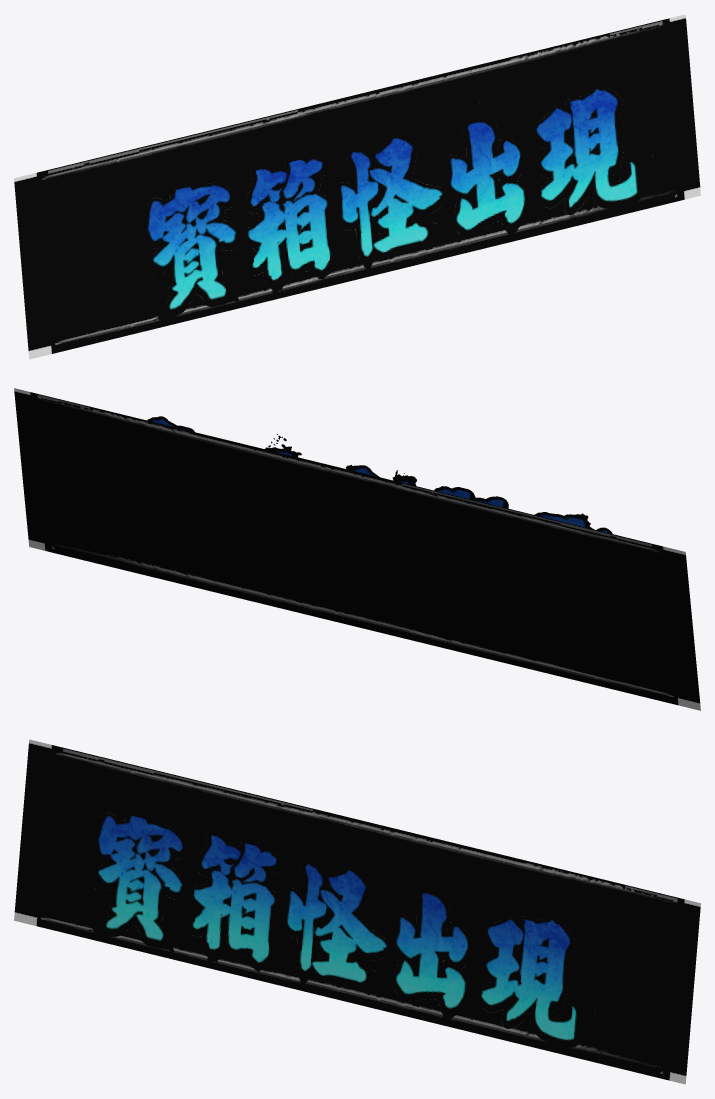
File: effect_box.FBX
The picture shows the model from 3 angles, top to bottom: view 1: azimuth 30°, elevation 25°; view 2: azimuth 150°, elevation 25°; view 3: azimuth 330°, elevation 25°; orthographic projection.
Visible parts, largest first — view 1: effect_box_kuang, effect_box_5, effect_box_1, effect_box_2, effect_box_5_ad, effect_box_3, effect_box_4, effect_box_1_ad, effect_box_3_ad; view 2: effect_box_kuang, effect_box_2_ad, effect_box_1; view 3: effect_box_kuang, effect_box_5, effect_box_1, effect_box_2, effect_box_3_ad, effect_box_4, effect_box_1_ad, effect_box_4_ad, effect_box_3, effect_box_5_ad.
Boxes of the visible parts, x1,y1,x2,y2 form: effect_box_kuang: (14,14,700,359); effect_box_5: (532,86,652,214); effect_box_1: (142,181,240,321); effect_box_2: (243,156,335,294); effect_box_5_ad: (532,86,652,214); effect_box_3: (336,135,448,258); effect_box_4: (448,107,530,241); effect_box_1_ad: (142,182,240,321); effect_box_3_ad: (338,137,451,273); effect_box_kuang: (14,388,700,710); effect_box_2_ad: (434,486,508,508); effect_box_1: (534,512,612,533); effect_box_kuang: (14,739,700,1084); effect_box_5: (476,916,597,1047); effect_box_1: (84,808,187,952); effect_box_2: (188,832,281,972); effect_box_3_ad: (285,854,391,990); effect_box_4: (391,877,472,1025); effect_box_1_ad: (85,809,186,951); effect_box_4_ad: (391,876,472,1025); effect_box_3: (282,860,390,987); effect_box_5_ad: (476,917,596,1047).
Bounding box in the file's own units: 750 × 181 × 79.07.
